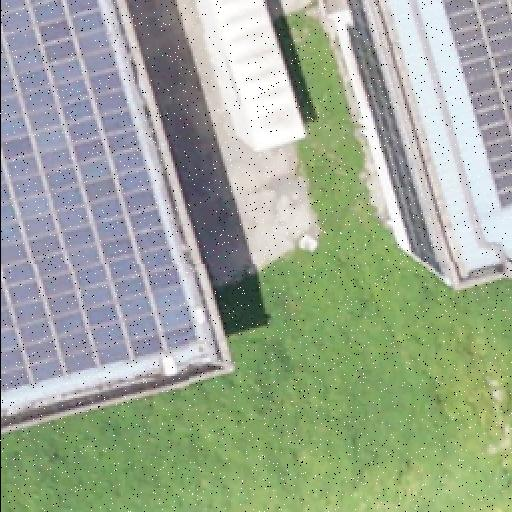solar-panel: (0, 0, 200, 396), (441, 0, 511, 212)
